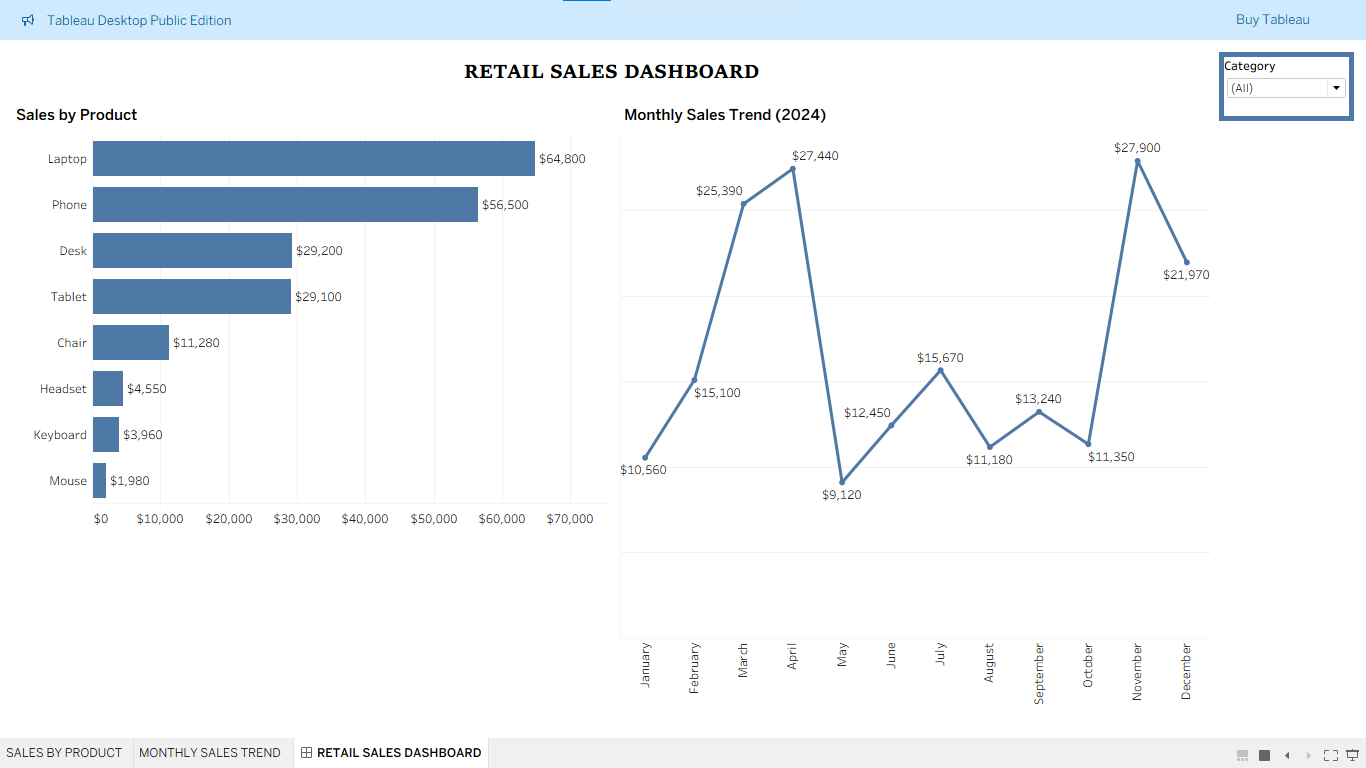

Layout of this report page (visuals, bound fields, positions):
{"tool":"tableau","page":{"name":"RETAIL SALES DASHBOARD","canvas":[1000,1000],"units":"permille","ordinal":0},"visuals":[{"type":"text","box":[6,14.5,881.3,71.1]},{"type":"filter","title":"SALES BY PRODUCT","param":"[federated.1xsqqjy13sq9u61ge38n40gk2ovb].[none:category:nk]","box":[887.3,14.5,106.7,139.5]},{"type":"worksheet","title":"SALES BY PRODUCT","mark":"Automatic","rows":["product"],"cols":["Calculation_1343198648514023424"],"box":[6,85.6,444.2,899.9]},{"type":"worksheet","title":"MONTHLY SALES TREND","mark":"Automatic","rows":["Calculation_1343198648514023424"],"cols":["order_date"],"box":[450.2,85.6,437.2,899.9]}]}

Visuals, with their boxes on the dashboard's canvas, which has no fixed pixel size, in thousandths of its width and height (x1, y1, x2, y2). These are canvas units, not pixel positions in the 1366x768 screenshot, which may show the page scaled, cropped or inside an application window:
text: crop(6, 14, 887, 86)
"SALES BY PRODUCT" filter: crop(887, 14, 994, 154)
"SALES BY PRODUCT" worksheet: crop(6, 86, 450, 986)
"MONTHLY SALES TREND" worksheet: crop(450, 86, 887, 986)
